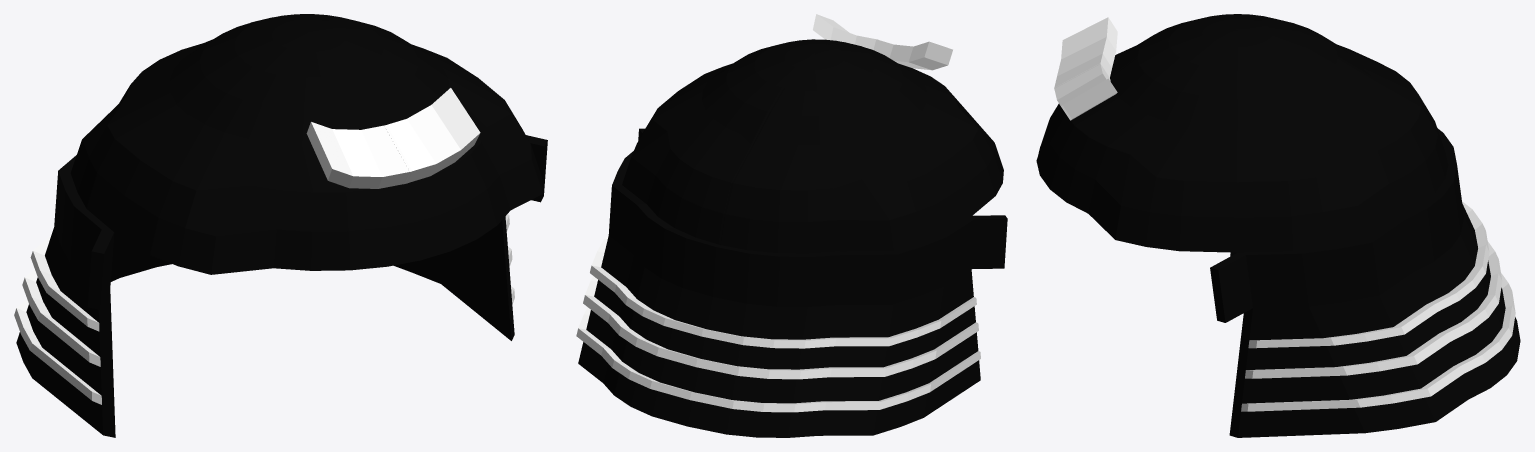
File: Samurai_helmet.glb
The picture shows the model from 3 angles, left to right: view 1: azimuth 30°, elevation 25°; view 2: azimuth 150°, elevation 25°; view 3: azimuth 270°, elevation 25°; orthographic projection. The views are drawn at different scales.
Parts seen in each view (by area): view 1: Sphere; view 2: Sphere; view 3: Sphere.
Boxes of the visible parts, <box> form: Sphere: <box>14,14,547,437</box>; Sphere: <box>576,14,1007,437</box>; Sphere: <box>1036,14,1520,437</box>.
Size of the model in its own units: 1.06 by 0.7853 by 1.08.
1 material, 1 textured.
